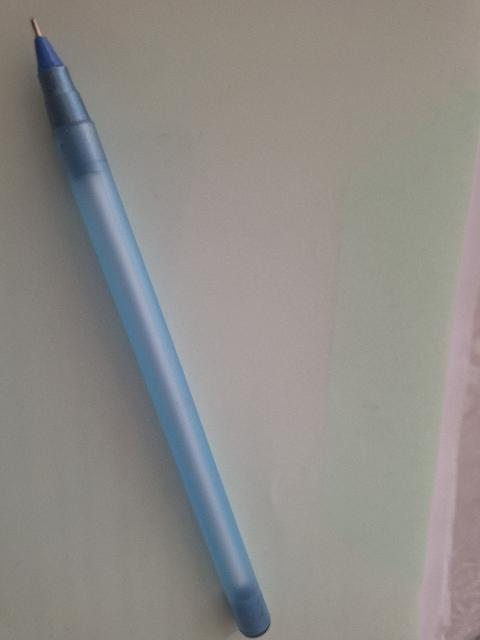writing_tool: (20, 14, 275, 634)
